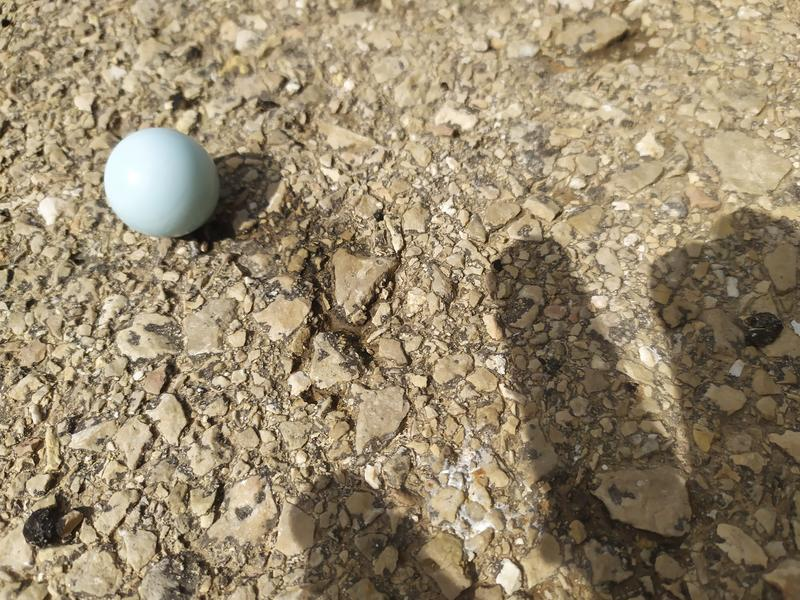Warning: (100, 124, 224, 241)
